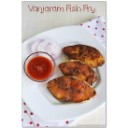seerfish: (47, 75, 96, 104), (61, 43, 105, 67), (57, 58, 94, 84)
